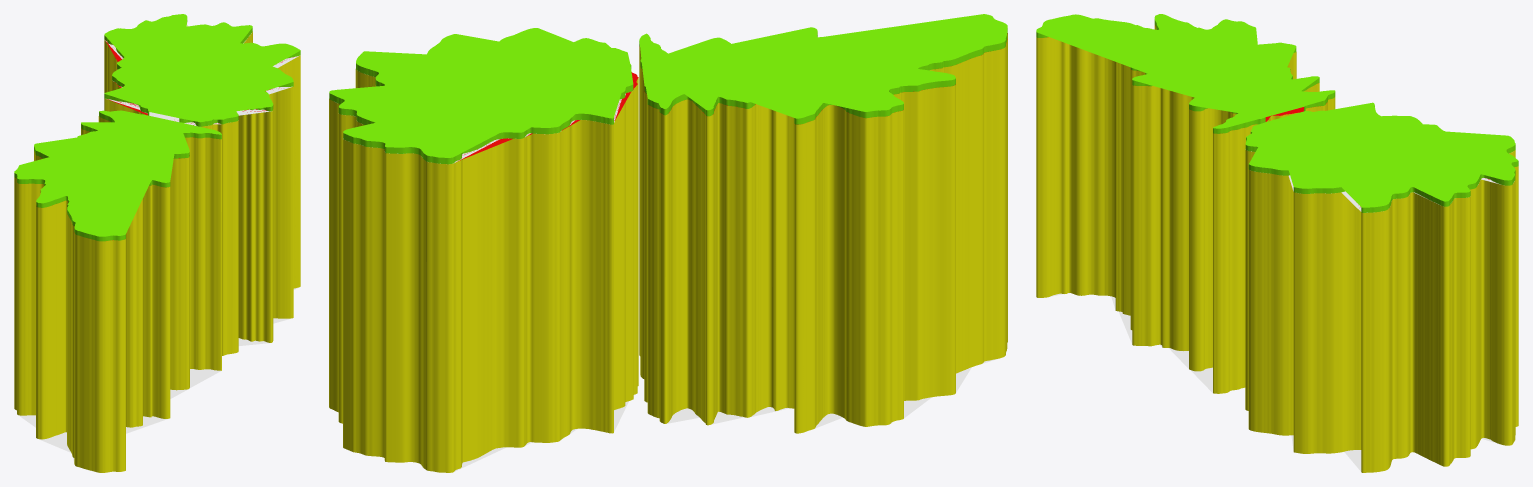
Rendered from map_last.fbx.
3 renders of one model, left to right at view 1: azimuth 30°, elevation 25°; view 2: azimuth 150°, elevation 25°; view 3: azimuth 270°, elevation 25°, orthographic. The views are drawn at different scales.
Parts seen in each view (by area): view 1: Model; view 2: Model; view 3: Model.
Boxes of the visible parts, box(x1,y1,x2,y2) form: Model: box(14, 14, 300, 472); Model: box(329, 14, 1007, 472); Model: box(1036, 14, 1518, 472).
Size of the model in its own units: 8 by 5.1 by 8.41.
